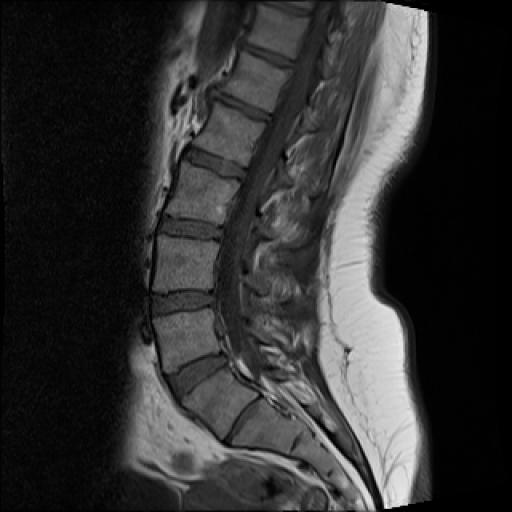L1: (193, 102, 265, 166)
L2: (165, 161, 239, 225)
L3: (153, 234, 219, 293)
L4: (153, 308, 220, 373)
L5: (182, 367, 257, 440)
S1: (230, 398, 300, 454)
